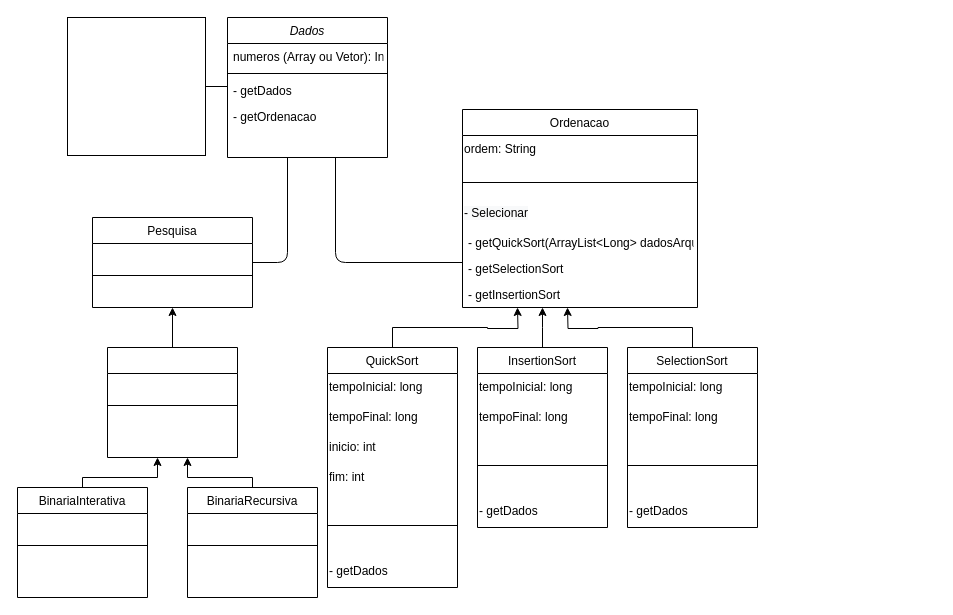
This 953x615 diagram has some shape labels left out. The centre of each missing label's shape, as x and y in pixels:
"Aplicação" belongs at point 136,86.
"PesquisaBinaria" belongs at point 172,402.
